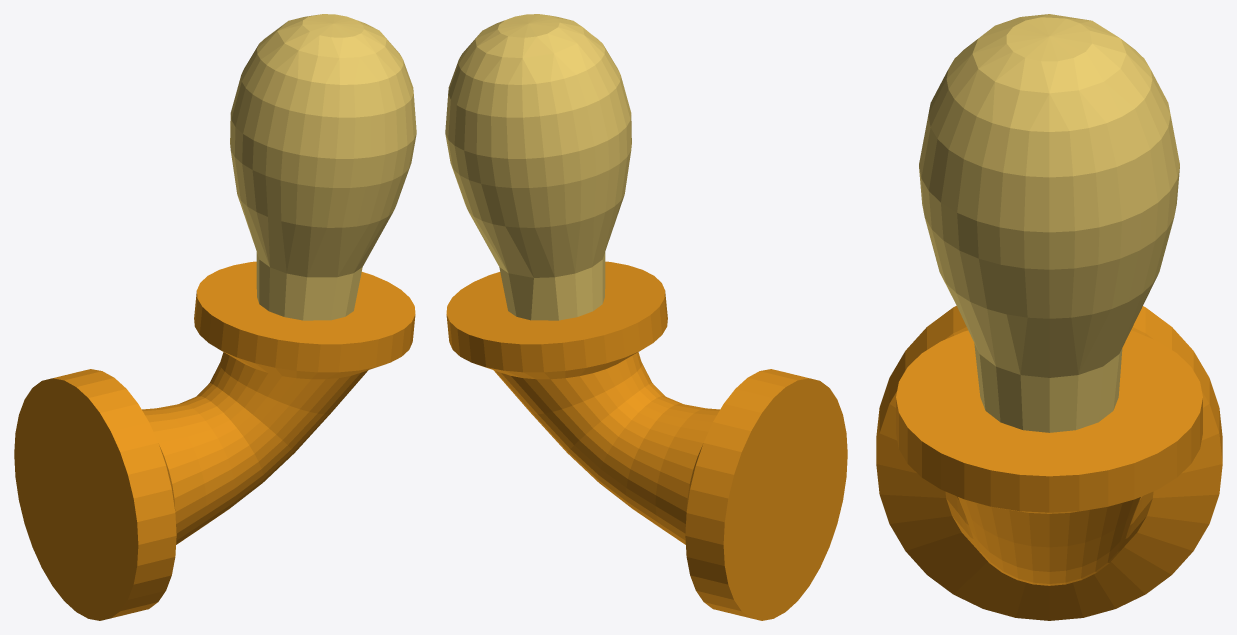
Rendered from lamp.fbx.
The picture shows the model from 3 angles, left to right: view 1: azimuth 30°, elevation 25°; view 2: azimuth 150°, elevation 25°; view 3: azimuth 270°, elevation 25°; orthographic projection. The views are drawn at different scales.
Parts seen in each view (by area): view 1: Cylinder; view 2: Cylinder; view 3: Cylinder.
Boxes of the visible parts, bbox=[...] form: Cylinder: bbox=[14, 14, 416, 620]; Cylinder: bbox=[445, 14, 847, 620]; Cylinder: bbox=[876, 14, 1222, 620].
Size of the model in its own units: 32 by 49.07 by 20.98.
